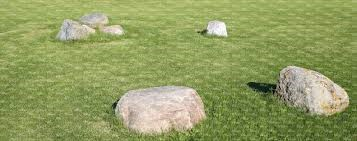grass: (0, 43, 113, 138), (236, 2, 355, 66), (116, 44, 275, 84), (205, 85, 278, 137), (126, 1, 201, 43), (0, 0, 53, 41), (281, 117, 353, 138)
rock: (114, 85, 206, 135), (277, 62, 348, 114), (56, 8, 124, 43), (204, 16, 227, 39)
